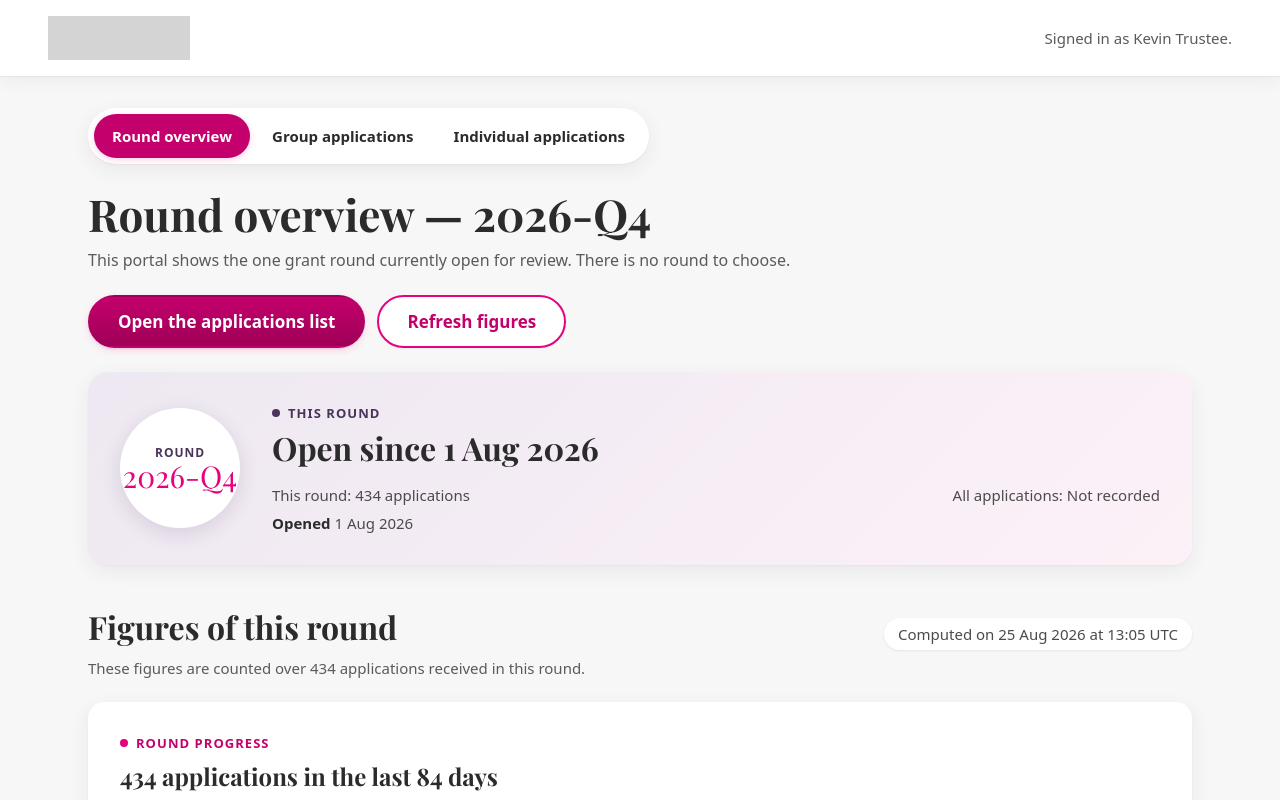
Test: App › walks the whole FR-056 chain: landing to list to case and back again
Click the button "Open the applications list".
click(227, 321)  # box [88,295,365,348]
(page scrolled)
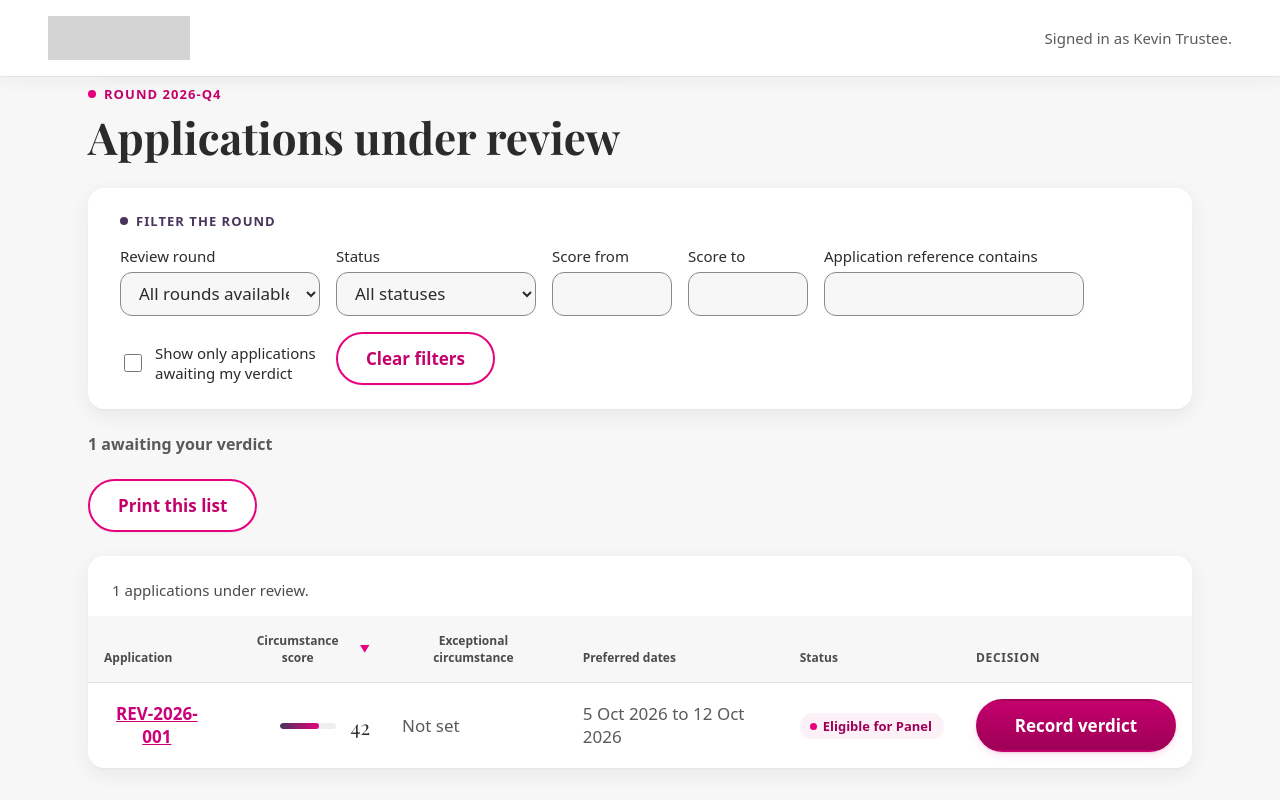
Expected: the table is shown, [88,556,1192,768]
Click the button with aria-label "REV-2026-001, open the full case".
click(157, 725)  # box [104,702,210,748]
(page scrolled)
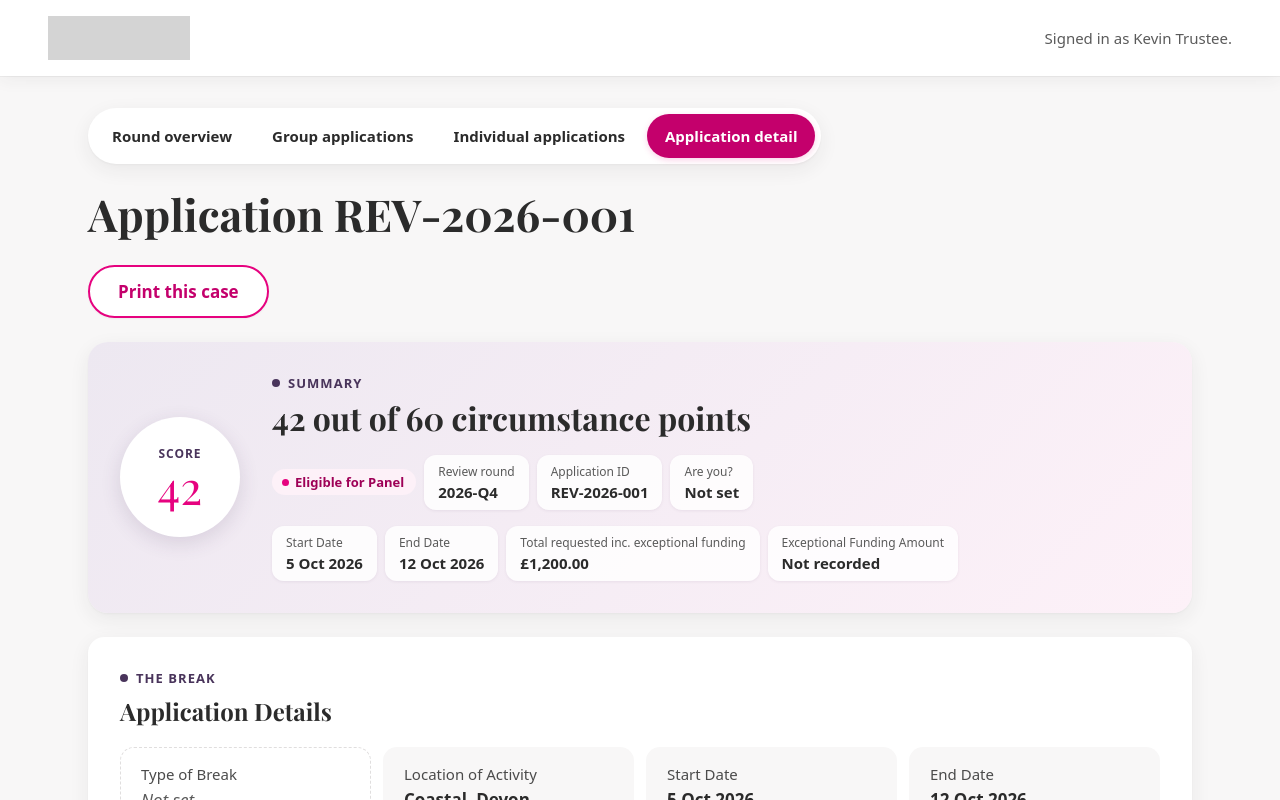
Expected: the heading "Application REV-2026-001" is shown, [88,184,635,243]
Click the button "Individual applications".
click(539, 136)  # box [436,114,643,158]
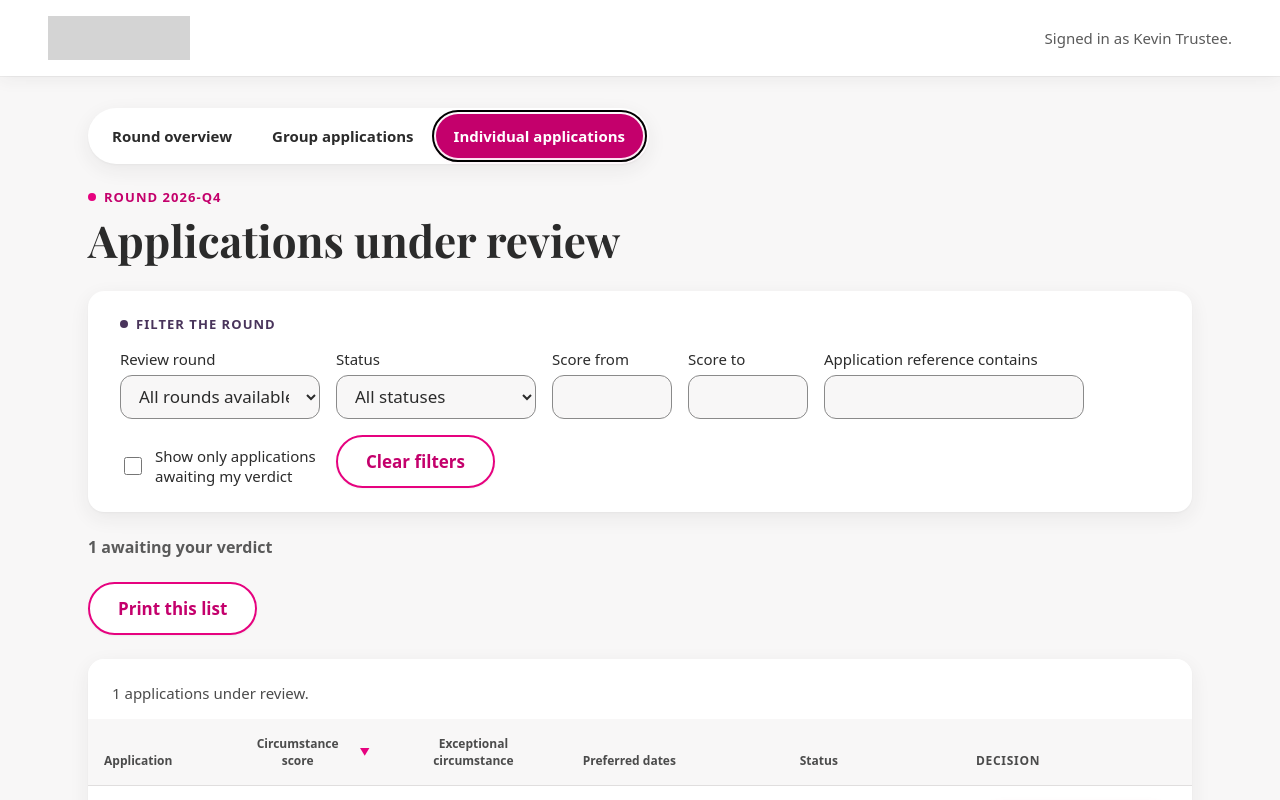
Expected: the heading reads "Applications under review", [88,210,620,269]
Click the button "Round overview".
click(172, 136)  # box [94,114,250,158]
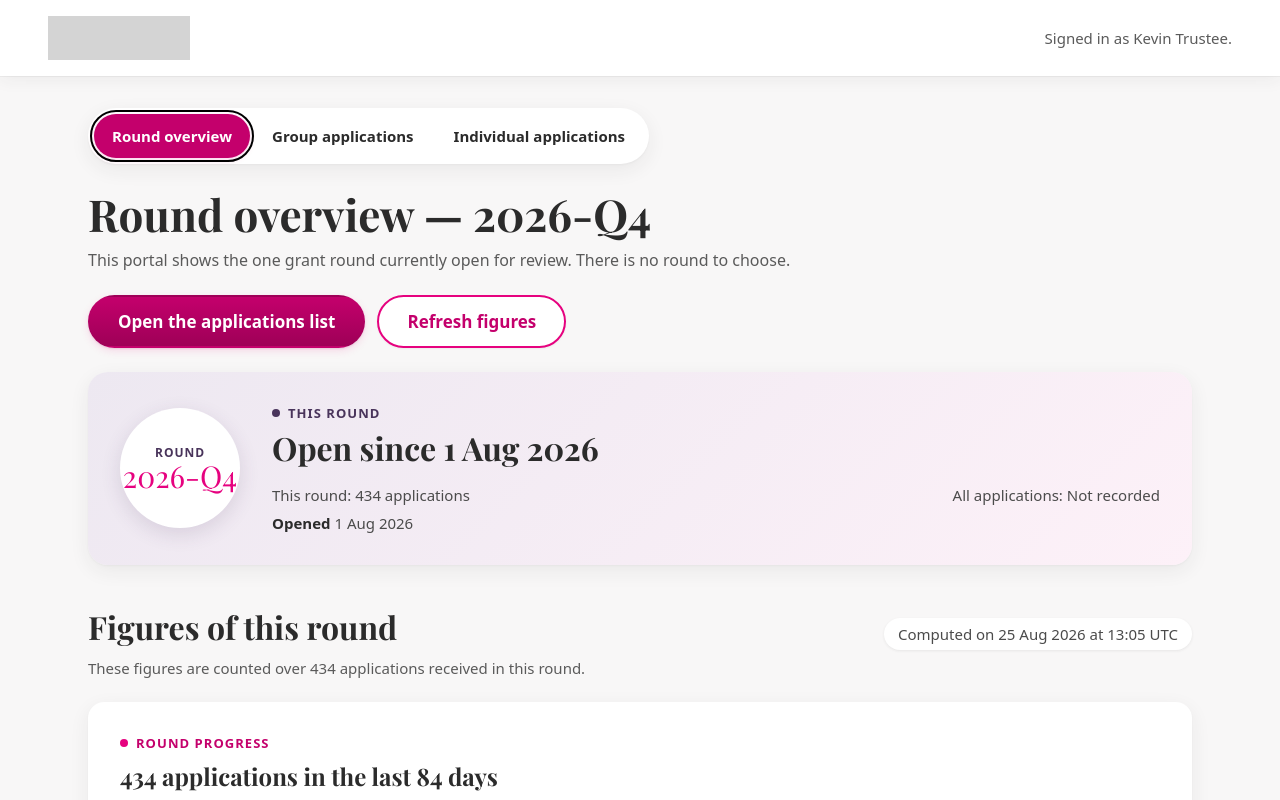
Expected: the heading "Round overview — 2026-Q4" is shown, [88,184,651,243]
